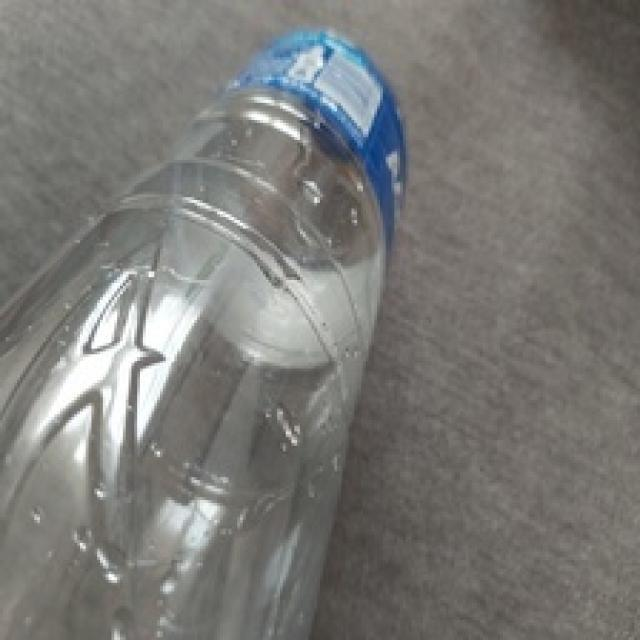Plastic: (0, 30, 406, 640)
